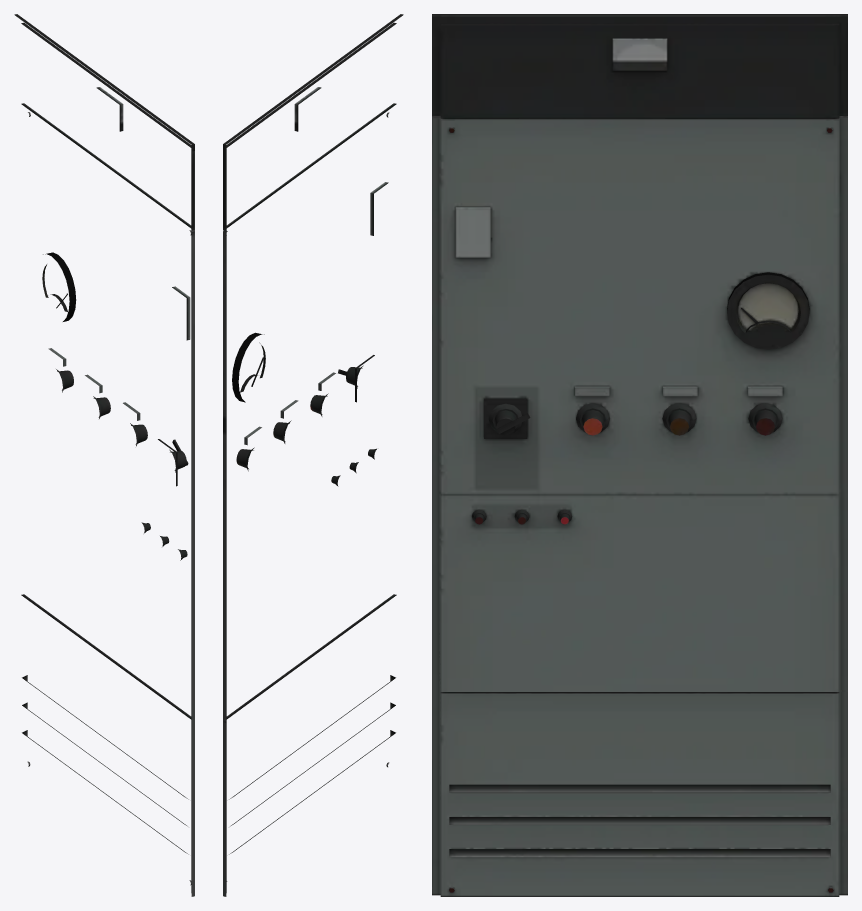
3 views of the same model, side by side, from view 1: azimuth 30°, elevation 25°; view 2: azimuth 150°, elevation 25°; view 3: azimuth 270°, elevation 25° (orthographic). The views are drawn at different scales.
Parts seen in each view (by area): view 1: body0_model0_lod0_mesh0; view 2: body0_model0_lod0_mesh0; view 3: body0_model0_lod0_mesh0.
Part boxes in pixels (x1,y1,x2,y2): body0_model0_lod0_mesh0: (14, 14, 194, 896); body0_model0_lod0_mesh0: (223, 14, 403, 896); body0_model0_lod0_mesh0: (432, 14, 847, 896).
Size of the model in its own units: 3.79 by 112 by 47.99.
Materials: 1 (1 with a texture image).
